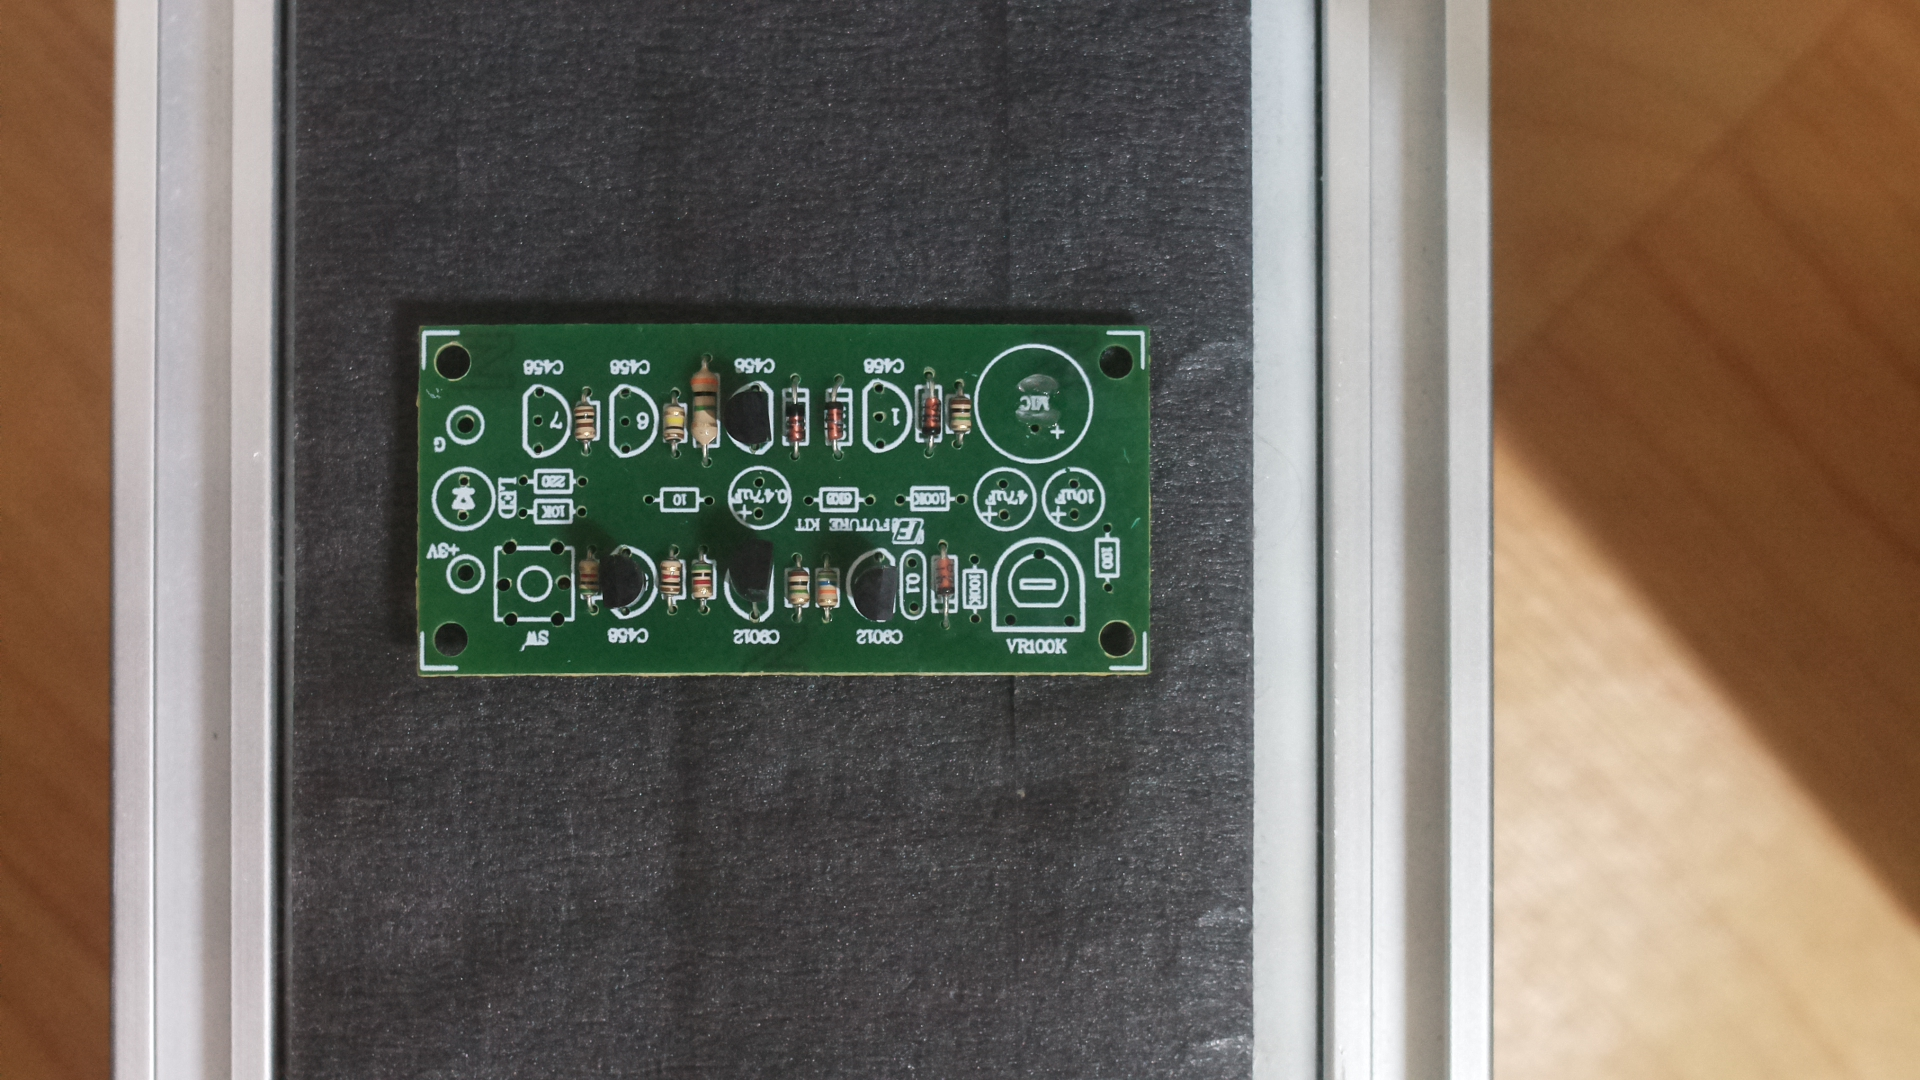A_Missing_part: (410, 305, 1163, 690)
